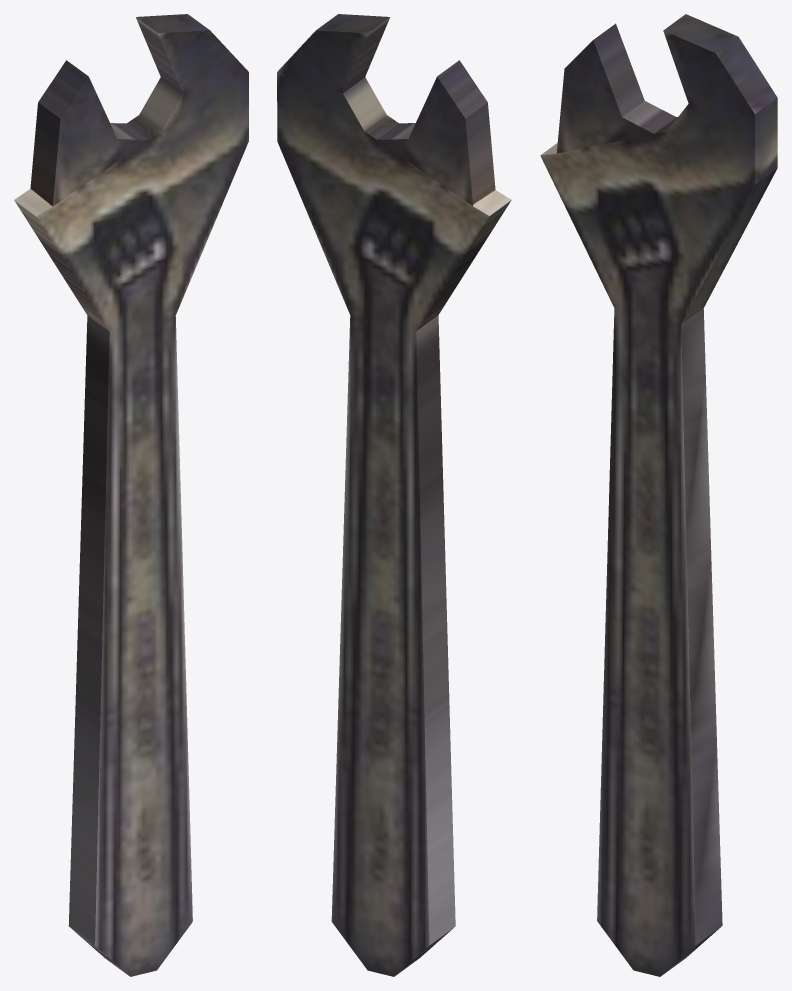
File: tool_eng_wrench.fbx
3 views of the same model, side by side, from view 1: azimuth 30°, elevation 25°; view 2: azimuth 150°, elevation 25°; view 3: azimuth 330°, elevation 25° (orthographic).
Parts seen in each view (by area): view 1: AWrench.001; view 2: AWrench.001; view 3: AWrench.001.
Part boxes in pixels (box(x1,y1,x2,y2)): AWrench.001: box(14, 14, 248, 976); AWrench.001: box(277, 14, 511, 976); AWrench.001: box(540, 14, 777, 976).
Size of the model in its own units: 78.18 by 329 by 16.74.
Materials: 1 (1 with a texture image).
